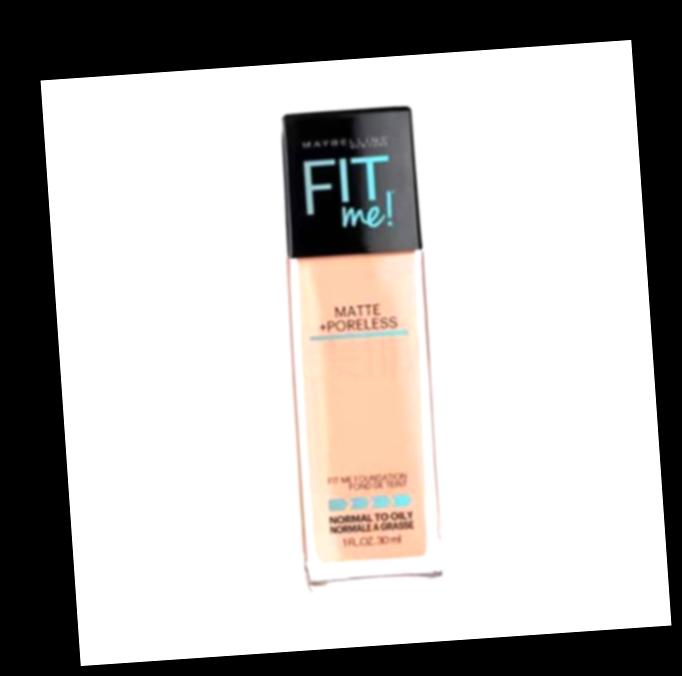cosmetic: (280, 104, 446, 595)
